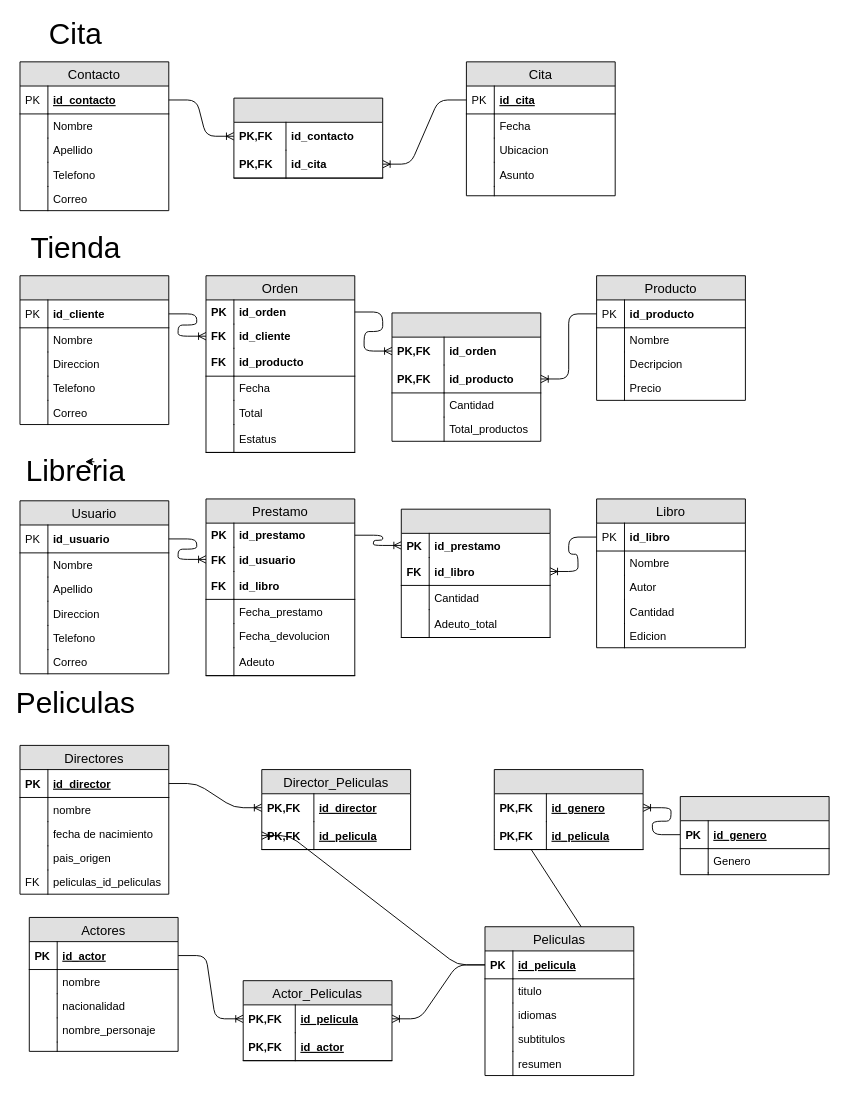
The diagram is 845 pixels wide and 1094 high, and some of its shapes have lost their labels. The shapes that lost their labels are listed below. From the top down, each one's box as (x1, y1, x2, y2) in pixels, then its label:
(233, 97, 383, 178): Citas
(19, 275, 169, 425): Clientes
(391, 312, 541, 441): Detalles_orden
(400, 508, 550, 638): Detalles_prestamo
(493, 769, 643, 850): Genero_Pelicula
(679, 796, 829, 875): Generos
